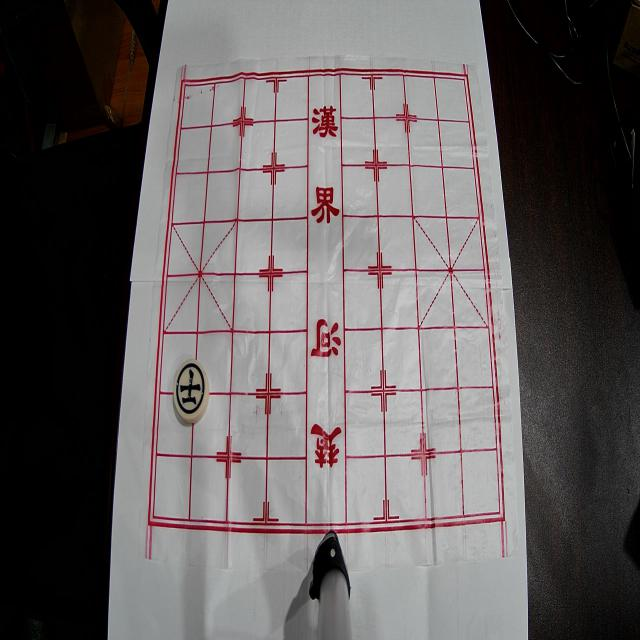black-guard: (173, 359, 210, 424)
